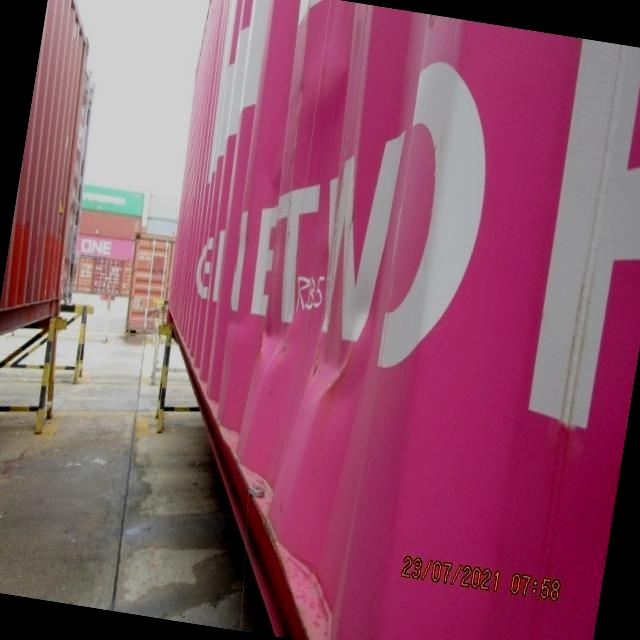Dent: (214, 175, 407, 435)
